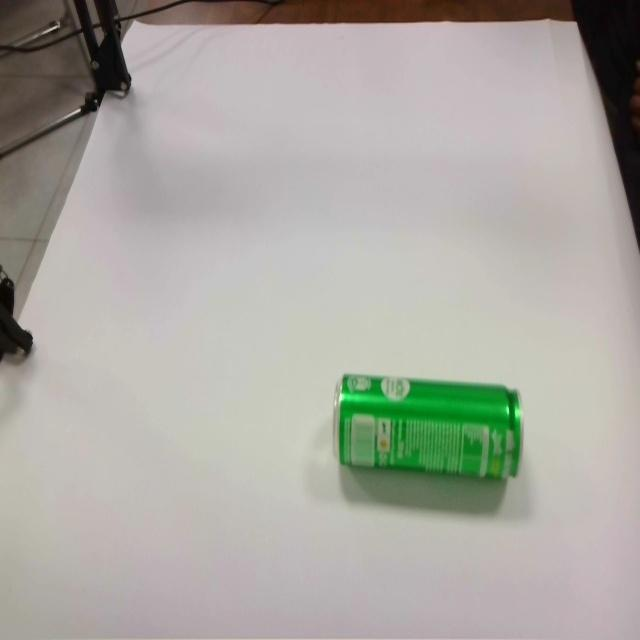debris: (333, 373, 525, 517)
